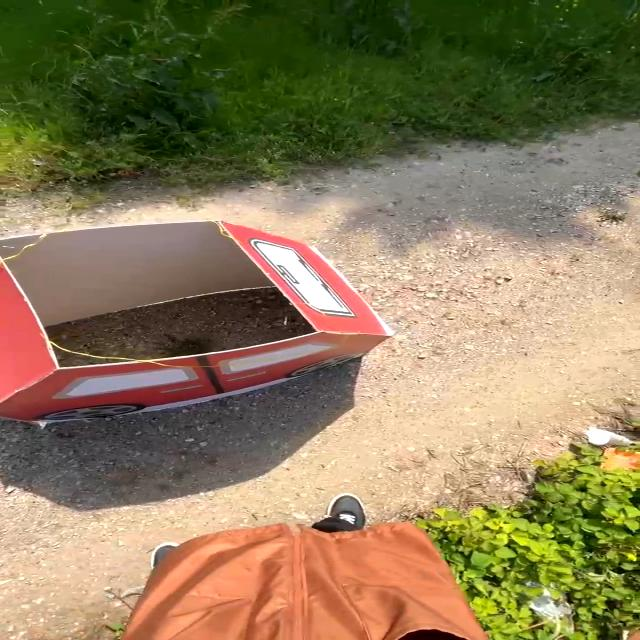red_car: (0, 203, 409, 443)
